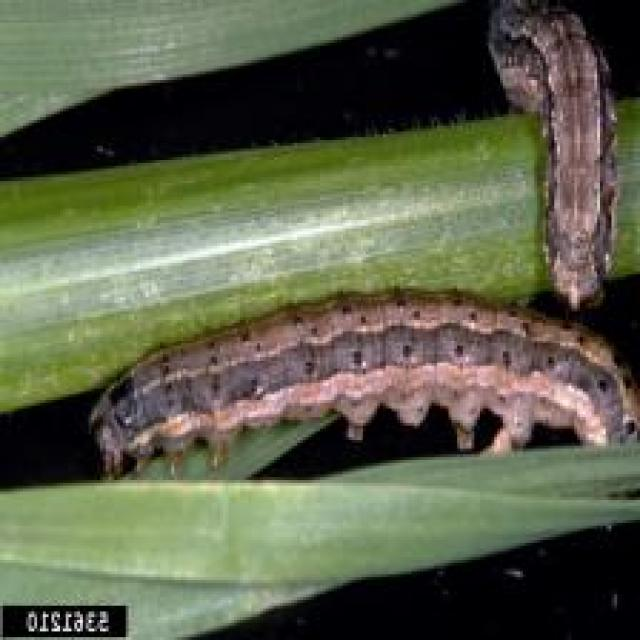Plaga: (88, 291, 637, 494), (467, 4, 627, 292)
